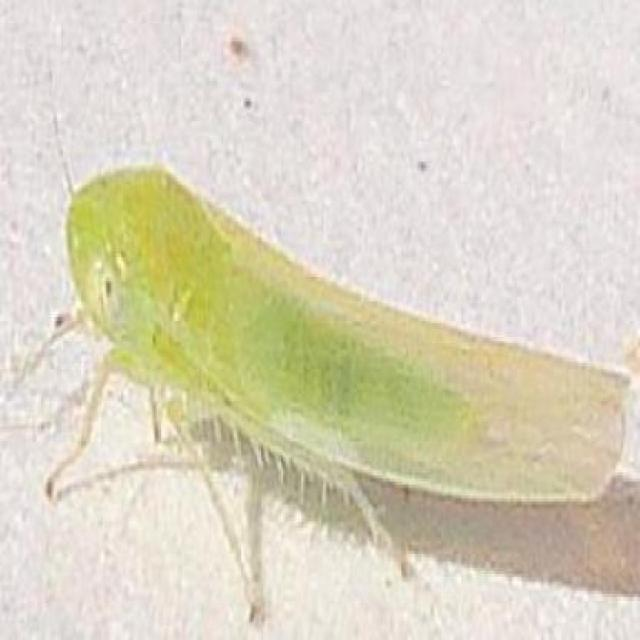green-leafhopper: (48, 172, 589, 503)
